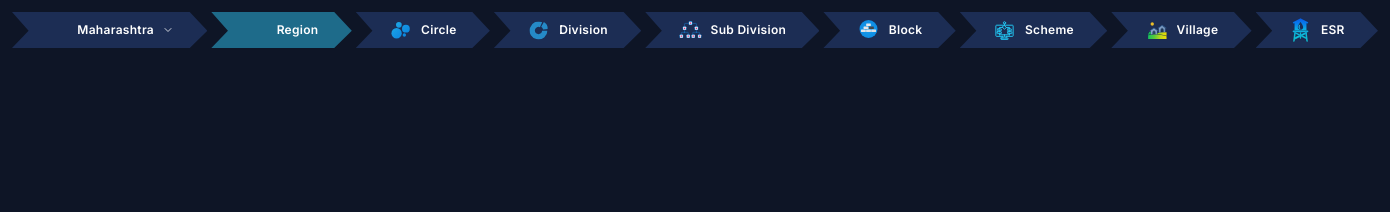
Test: HierarchyBreadcrumbs › switches state from the root tab and opens that state's Enterprise dashboard
Click the button "Maharashtra" at (110, 30), box [12,12,207,48]
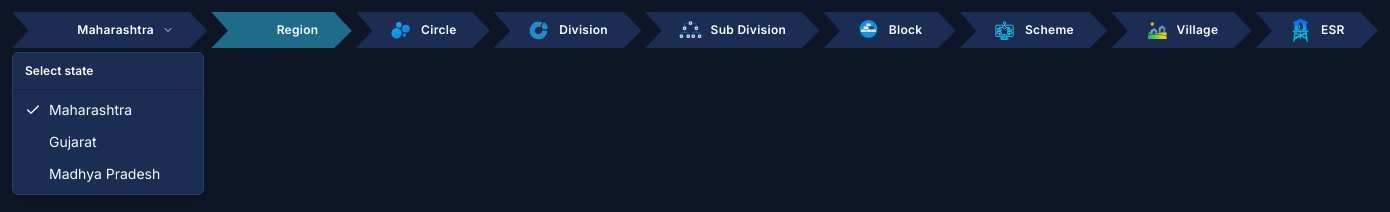
Check: the menu items read "Maharashtra", "Gujarat", "Madhya Pradesh", in this order
Click the menu item "Gujarat" at (73, 142), box [49,133,97,150]
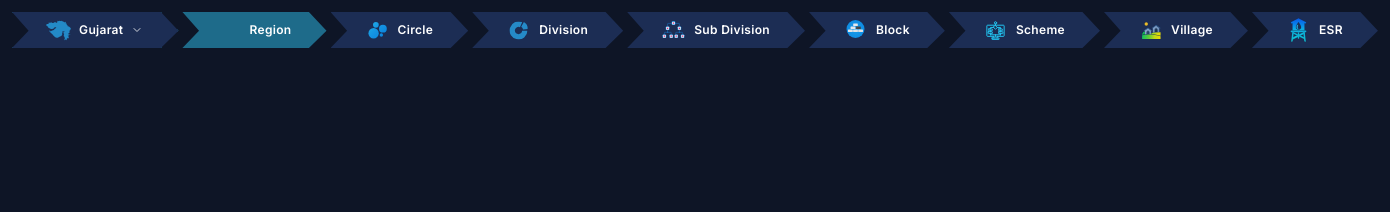
Check: the text "Gujarat" is shown, box [79,22,123,38]
Check: the button "Gujarat" is shown, box [12,12,178,48]
